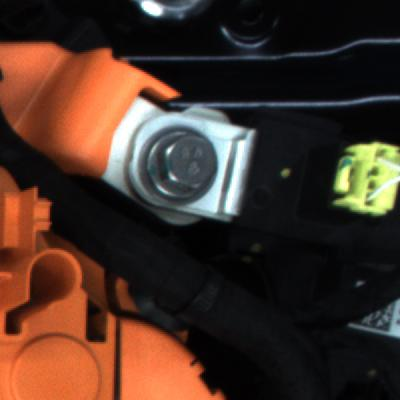nut_b: (135, 123, 248, 219)
